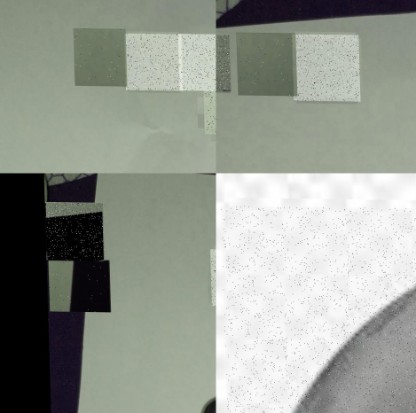ironball: (219, 205, 415, 412), (290, 33, 359, 100), (235, 31, 295, 95), (44, 202, 103, 260), (123, 32, 181, 90), (47, 259, 109, 312), (71, 27, 125, 85), (176, 32, 215, 90), (215, 33, 229, 92), (202, 89, 215, 133)
